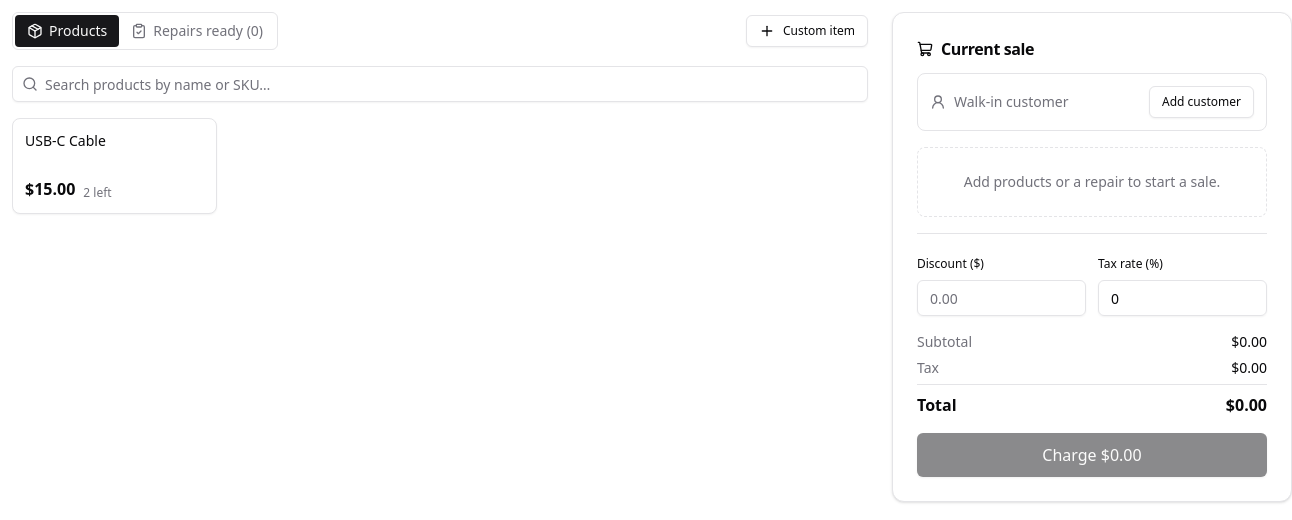
PosTerminal › adds products, caps quantity at stock and totals the sale
Click the button "USB-C Cable $15.00 2 left": [114, 166] box [12, 118, 217, 214]
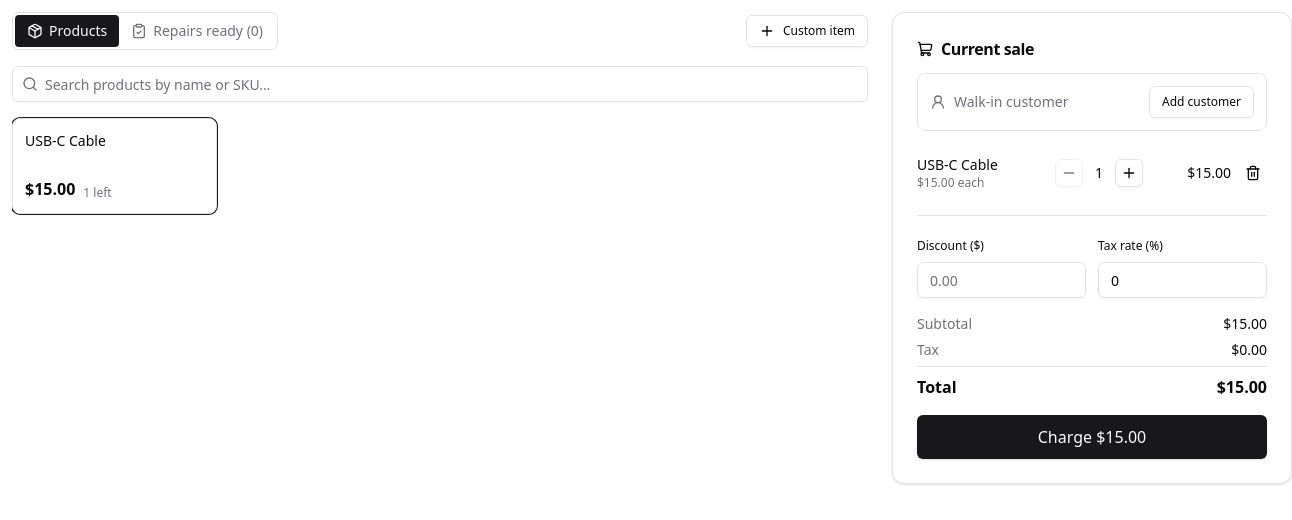
Click the button "USB-C Cable $15.00 1 left": [114, 166] box [12, 118, 217, 214]
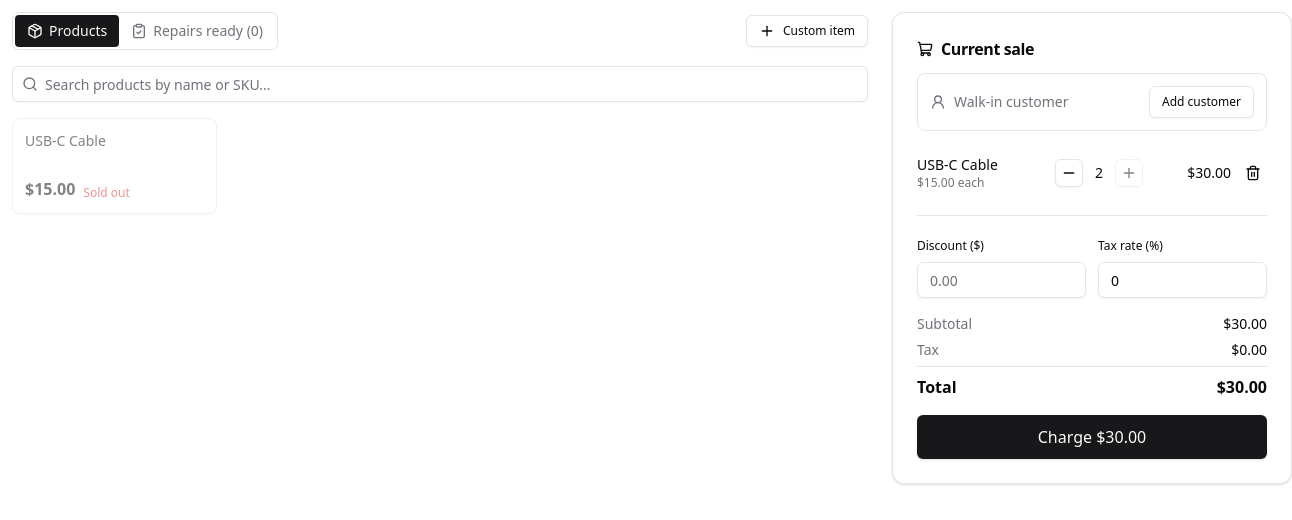
Now the button "Charge $30.00" is enabled, box [917, 415, 1267, 459]
Now the button named "increase usb-c cable" is disabled, box [1115, 159, 1143, 187]
Now the text "Sold out" is shown, box [83, 185, 130, 201]
